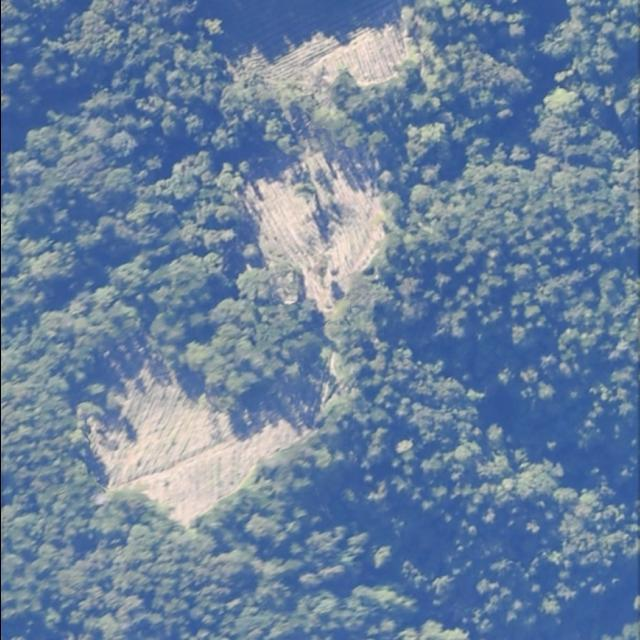landslide: (76, 129, 384, 527), (228, 24, 407, 130)
